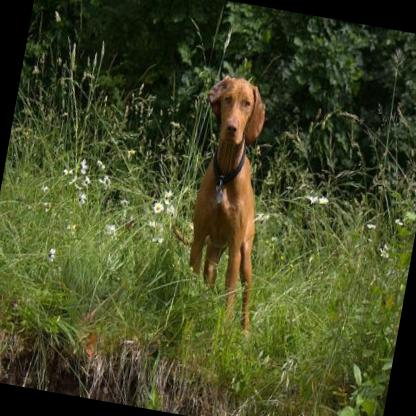vizsla: (154, 66, 294, 336)
